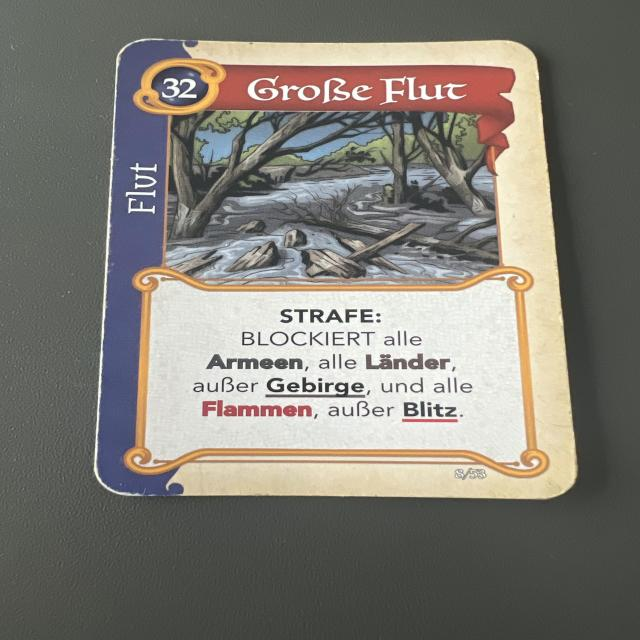Great Flood: (88, 37, 583, 507)
